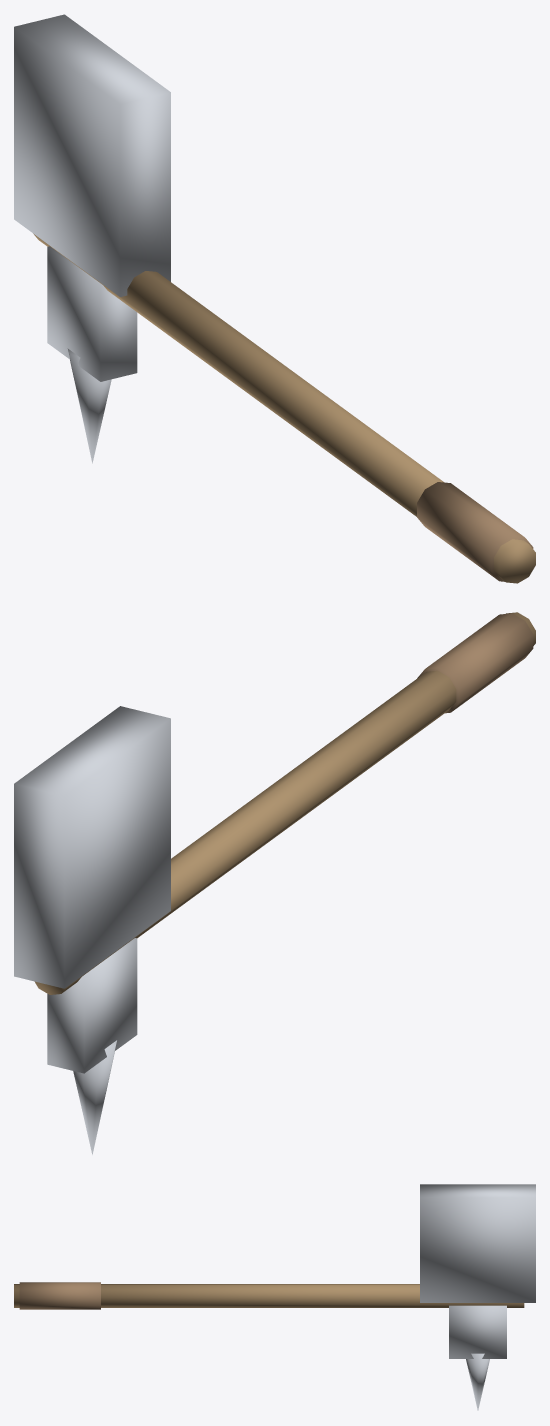
File: weapon_axe.fbx
The picture shows the model from 3 angles, top to bottom: view 1: azimuth 30°, elevation 25°; view 2: azimuth 150°, elevation 25°; view 3: azimuth 270°, elevation 25°; orthographic projection. The views are drawn at different scales.
Visible parts, largest first — view 1: Axe; view 2: Axe; view 3: Axe.
Boxes of the visible parts, x1,y1,x2,y2 form: Axe: (14, 14, 535, 583); Axe: (14, 612, 535, 1154); Axe: (14, 1184, 535, 1410).
Bounding box in the file's own units: 5.5 × 42 × 90.
